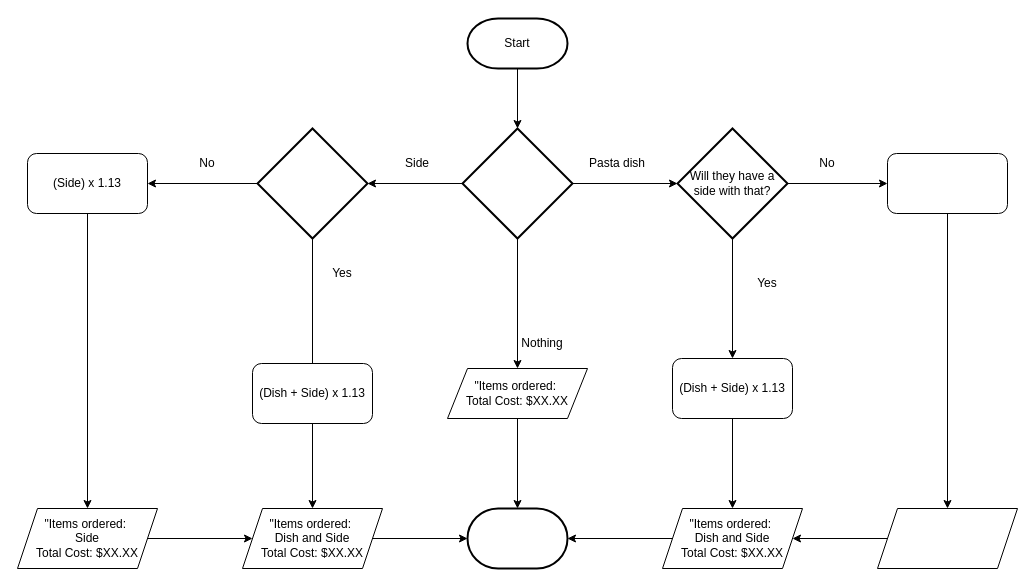
The diagram is 1035 pixels wide and 586 high, and some of its shapes have lost their labels. The box of each missing label's shape, as (x1, y1, x2, y2) in pixels:
"Items ordered: Dish Total Cost: $XX.XX: (876, 508, 1018, 568)
(Dish) x 1.13: (886, 152, 1008, 214)
End: (466, 507, 568, 569)
What will the user order?: (461, 127, 573, 239)
Will they order a dish with that?: (256, 127, 368, 239)
